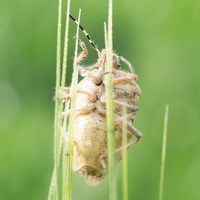insect: (57, 41, 110, 184), (111, 53, 141, 188)
